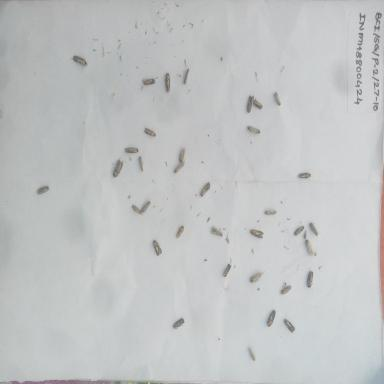pbw: (67, 50, 90, 70), (293, 222, 314, 238), (110, 158, 125, 180), (247, 225, 266, 242), (141, 125, 160, 142), (35, 182, 51, 202), (301, 237, 316, 255), (308, 217, 320, 239), (294, 169, 314, 182), (249, 269, 265, 285), (279, 279, 293, 297), (131, 202, 144, 220), (140, 196, 153, 214), (199, 180, 212, 198), (283, 317, 296, 334), (151, 239, 163, 257), (245, 94, 255, 115), (209, 225, 224, 239), (252, 96, 264, 113), (178, 145, 188, 165), (222, 261, 233, 279), (163, 70, 171, 94), (246, 124, 262, 136), (266, 309, 276, 328), (172, 316, 185, 330), (173, 161, 186, 174), (142, 76, 156, 88), (123, 146, 141, 155), (273, 90, 282, 108), (175, 224, 185, 240), (247, 346, 257, 362), (306, 270, 314, 290), (137, 155, 145, 173), (182, 67, 190, 85), (264, 208, 278, 216), (303, 229, 308, 241)
